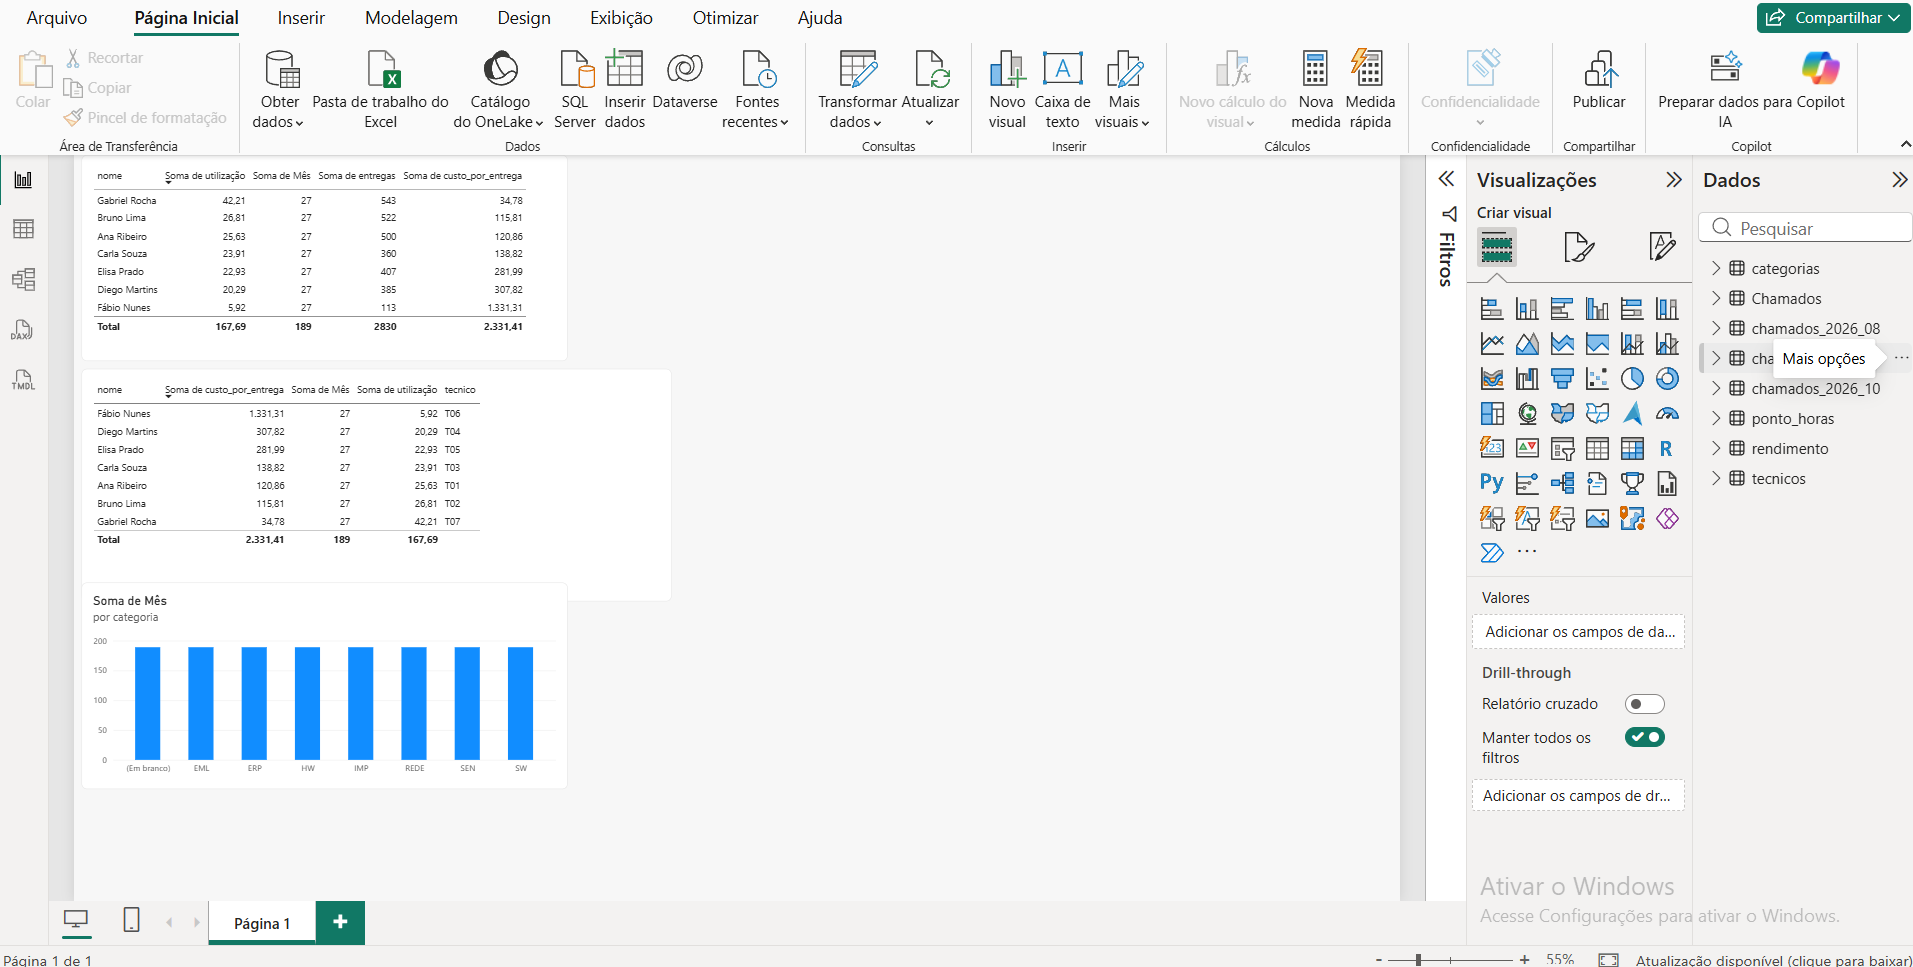

The page's visual inventory and layout, read from the dashboard file:
{"tool":"powerbi","page":{"name":"Página 1","canvas":[1920,1080],"ordinal":0},"visuals":[{"type":"tableEx","fields":{"Values":["tecnicos.nome","Sum(rendimento.utilização)","Sum(rendimento.Mês)","Sum(rendimento.entregas)","Sum(rendimento.custo_por_entrega)"]},"box":[10,0,704,298],"z":0},{"type":"tableEx","fields":{"Values":["rendimento.nome","Sum(rendimento.custo_por_entrega)","Sum(rendimento.Mês)","Sum(rendimento.utilização)","rendimento.tecnico"]},"box":[10,280,704,286],"z":1000},{"type":"clusteredColumnChart","fields":{"Category":["categorias.categoria"],"Y":["Sum(rendimento.Mês)"]},"box":[1166,0,704,308],"z":2000},{"type":"tableEx","fields":{"Values":["rendimento.nome","Sum(rendimento.Mês)","Sum(rendimento.entregas)","Sum(rendimento.custo_por_entrega)","Sum(rendimento.utilização)"]},"box":[10,780,704,300],"z":3000},{"type":"pivotTable","fields":{"Columns":["rendimento.Mês"],"Rows":["rendimento.tecnico"],"Values":["Sum(rendimento.entregas)","Avg(rendimento.custo_por_entrega)","Chamados.Utilização da equipe"]},"box":[774,596,1146,330],"z":4000},{"type":"pivotTable","fields":{"Columns":["Chamados.Mês"],"Rows":["Chamados.nome_categoria"],"Values":["CountNonNull(Chamados.id_chamado)","Sum(Chamados.custo_atendimento)"]},"box":[774,272,1146,324],"z":5000},{"type":"tableEx","fields":{"Values":["Chamados.nome","Chamados.nome_categoria","Sum(Chamados.horas_trabalhadas)","Sum(Chamados.custo_atendimento)","Chamados.nivel_adequado"]},"box":[0,566,760,153.3],"z":6000}]}

Visuals, with their boxes on the page's 1920x1080 design canvas (x1, y1, x2, y2). These are canvas units, not pixel positions in the 1913x967 screenshot, which may show the page scaled, cropped or inside an application window:
tableEx - tecnicos.nome x Sum(rendimento.utilização): detection(10, 0, 714, 298)
tableEx - rendimento.nome x Sum(rendimento.custo_por_entrega): detection(10, 280, 714, 566)
clusteredColumnChart - categorias.categoria x Sum(rendimento.Mês): detection(1166, 0, 1870, 308)
tableEx - rendimento.nome x Sum(rendimento.Mês): detection(10, 780, 714, 1080)
pivotTable - rendimento.Mês x rendimento.tecnico: detection(774, 596, 1920, 926)
pivotTable - Chamados.Mês x Chamados.nome_categoria: detection(774, 272, 1920, 596)
tableEx - Chamados.nome x Chamados.nome_categoria: detection(0, 566, 760, 719)
